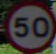Speed limit: (4, 3, 49, 45)
